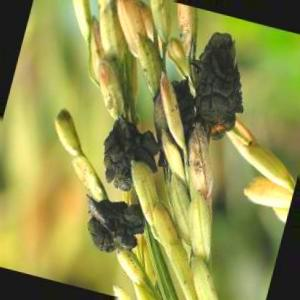Leaf_Scald: (194, 26, 246, 148), (82, 205, 143, 256), (101, 138, 139, 196)
